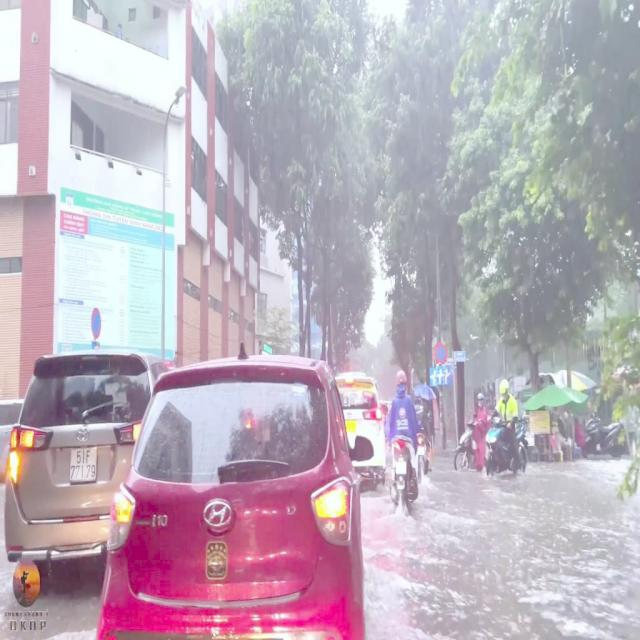cam_do_xe: (433, 342, 447, 364)
huong_di_tren_moi_lan_duong_theo_vach_ke_duong: (430, 366, 452, 387)
